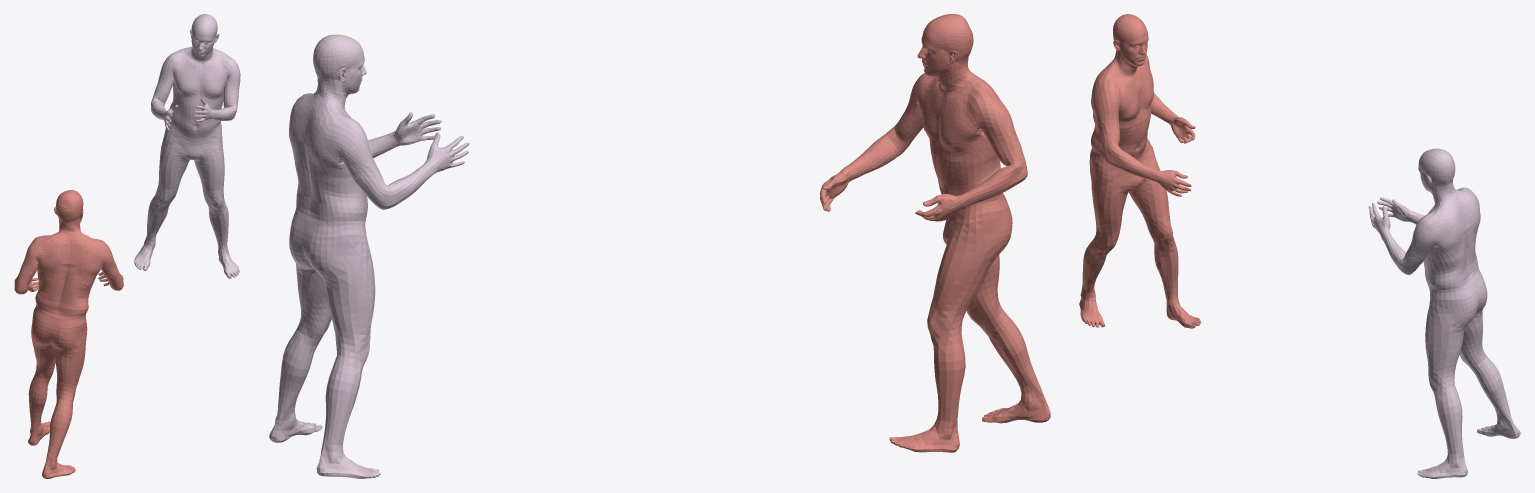
File: frame_0003.glb
3 renders of one model, left to right at view 1: azimuth 30°, elevation 25°; view 2: azimuth 150°, elevation 25°; view 3: azimuth 270°, elevation 25°, orthographic. The views are drawn at different scales.
Parts seen in each view (by area): view 1: human_1, human_2; view 2: human_1, human_2; view 3: human_2, human_1.
Part boxes in pixels (x1,y1,x2,y2): human_1: (14, 190, 123, 478); human_2: (134, 14, 240, 278); human_1: (820, 14, 1050, 452); human_2: (269, 34, 469, 478); human_2: (1368, 148, 1520, 478); human_1: (1079, 14, 1200, 328).
Bounding box in the file's own units: 2.59 × 2.01 × 2.38.
